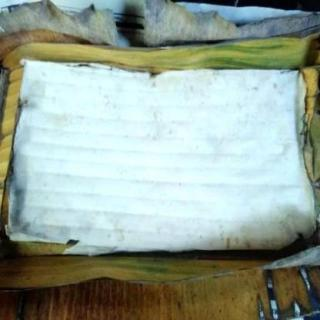Tempe: (8, 58, 317, 252)
